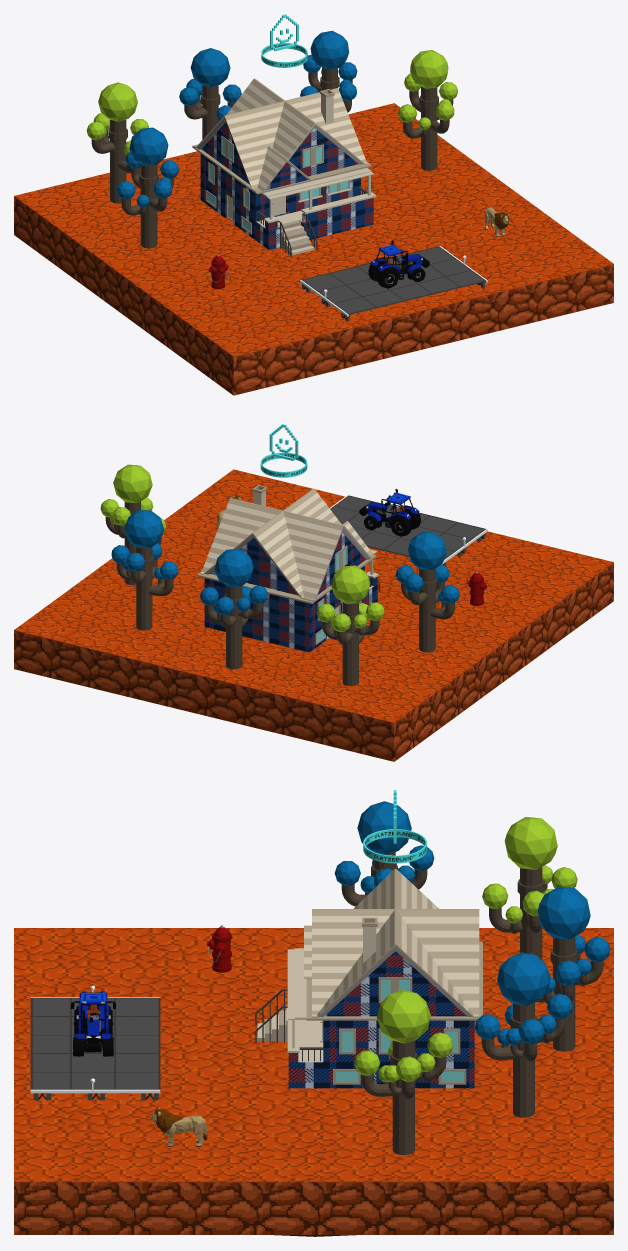
The picture shows the model from 3 angles, top to bottom: view 1: azimuth 30°, elevation 25°; view 2: azimuth 150°, elevation 25°; view 3: azimuth 270°, elevation 25°; orthographic projection. The views are drawn at different scales.
Visible parts, largest first — view 1: Cube.001, Cube.171, VEHICLES_TRACTOR, TYPE_PREMIUM; view 2: Cube.001, Cube.171, VEHICLES_TRACTOR, TYPE_PREMIUM, OBJRANDOM_FIRE_HYDRANT; view 3: Cube.001, Cube.171, VEHICLES_TRACTOR, TYPE_PREMIUM, ANIMAL_LEON, OBJRANDOM_FIRE_HYDRANT.
Boxes of the visible parts, left/top/right/bottom form: Cube.001: left=14, top=30, right=613, bottom=395; Cube.171: left=192, top=78, right=376, bottom=256; VEHICLES_TRACTOR: left=368, top=240, right=429, bottom=288; TYPE_PREMIUM: left=261, top=14, right=307, bottom=67; Cube.001: left=14, top=464, right=613, bottom=761; Cube.171: left=197, top=485, right=379, bottom=652; VEHICLES_TRACTOR: left=359, top=488, right=420, bottom=536; TYPE_PREMIUM: left=260, top=424, right=307, bottom=477; OBJRANDOM_FIRE_HYDRANT: left=467, top=571, right=487, bottom=605; Cube.001: left=14, top=801, right=613, bottom=1234; Cube.171: left=255, top=869, right=482, bottom=1088; VEHICLES_TRACTOR: left=71, top=991, right=115, bottom=1056; TYPE_PREMIUM: left=363, top=790, right=426, bottom=863; ANIMAL_LEON: left=151, top=1108, right=207, bottom=1147; OBJRANDOM_FIRE_HYDRANT: left=207, top=925, right=231, bottom=972.
Size of the model in its own units: 4000 by 2476 by 4000.
35 materials, 6 textured.
